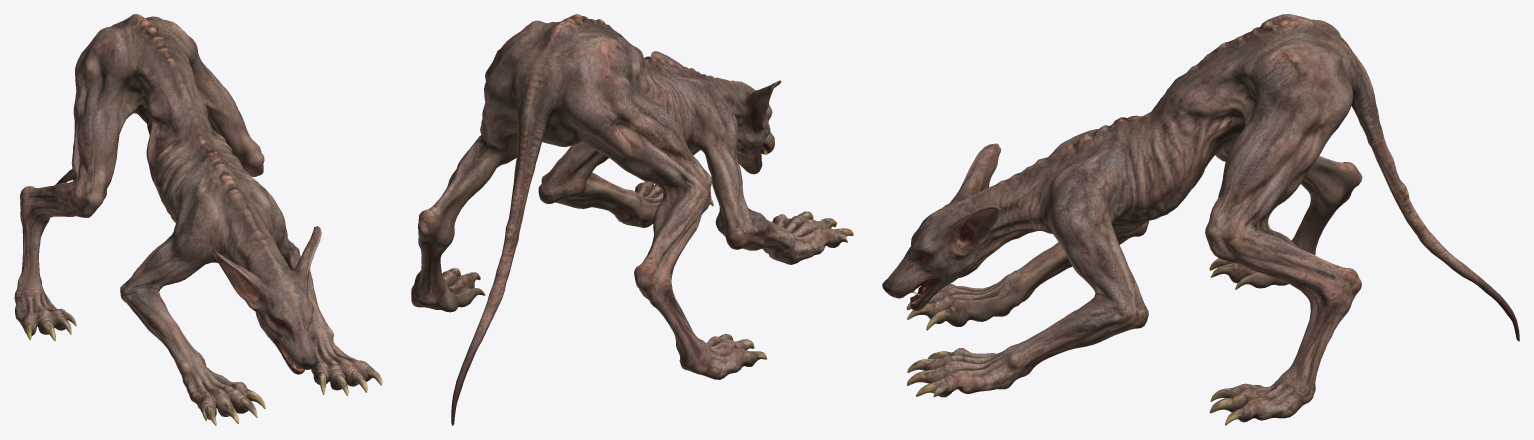
Rendered from sigbin.glb.
3 views of the same model, side by side, from view 1: azimuth 30°, elevation 25°; view 2: azimuth 150°, elevation 25°; view 3: azimuth 270°, elevation 25° (orthographic). The views are drawn at different scales.
Visible parts, largest first — view 1: sigbin; view 2: sigbin; view 3: sigbin.
Boxes of the visible parts, box(x1,y1,x2,y2) form: sigbin: box(14, 14, 382, 425); sigbin: box(411, 14, 853, 425); sigbin: box(882, 14, 1519, 425).
Bounding box in the file's own units: 0.6002 × 0.5626 × 0.9771.
1 material, 1 textured.
